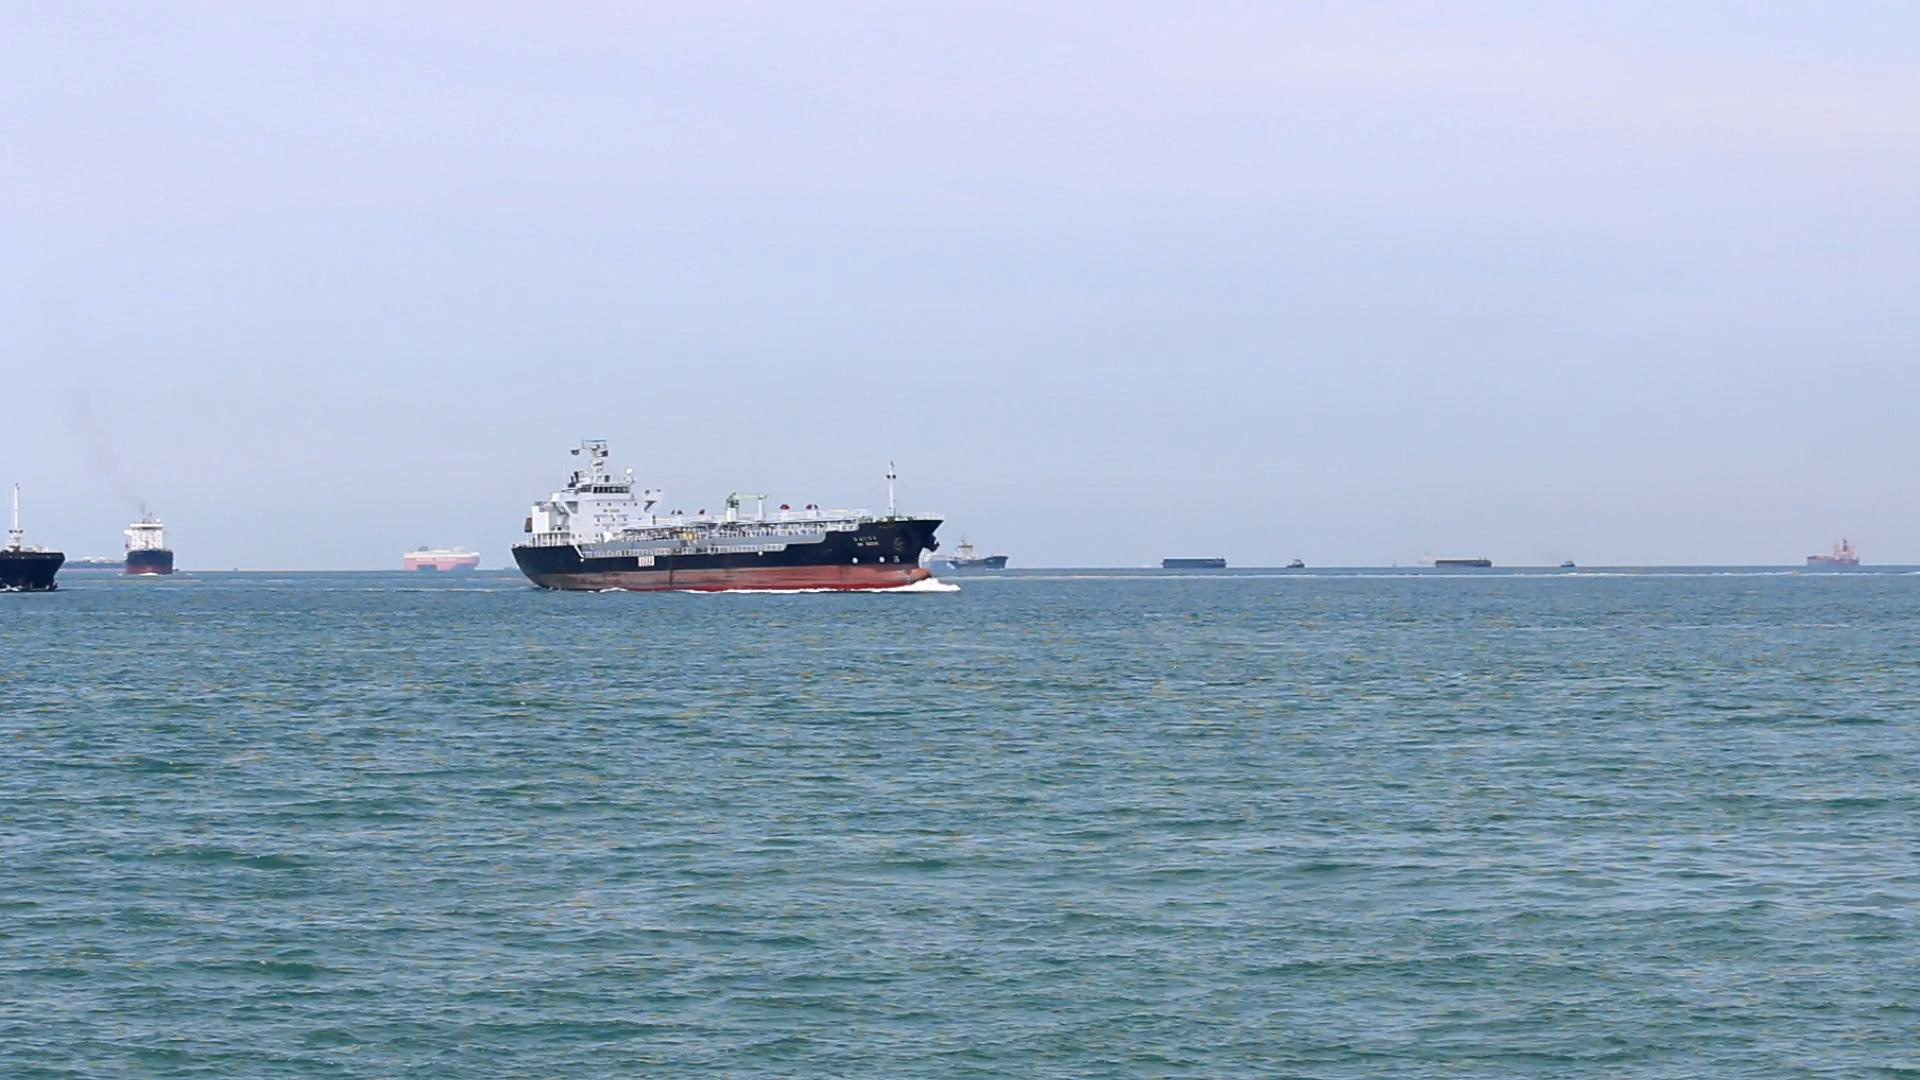Container Ship: (513, 431, 953, 597), (1, 475, 67, 596), (919, 531, 1010, 578), (127, 508, 178, 576), (401, 545, 481, 576), (1805, 534, 1867, 574), (67, 553, 128, 575)
